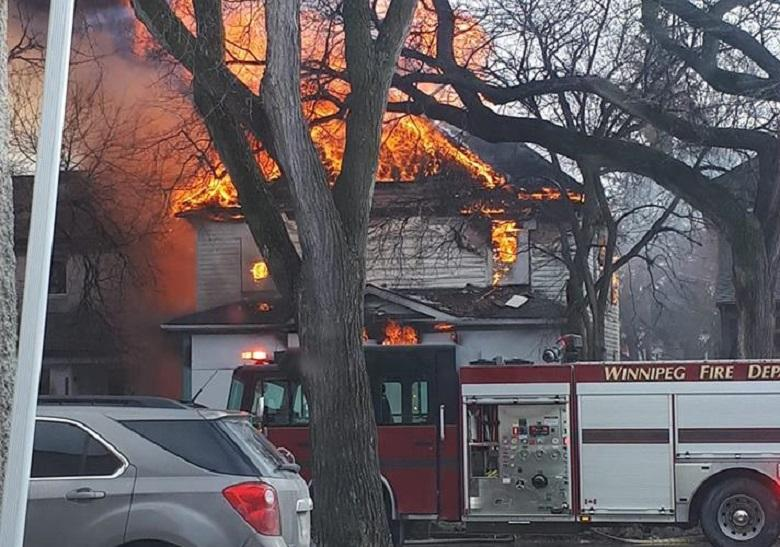Fire: (123, 2, 569, 265)
